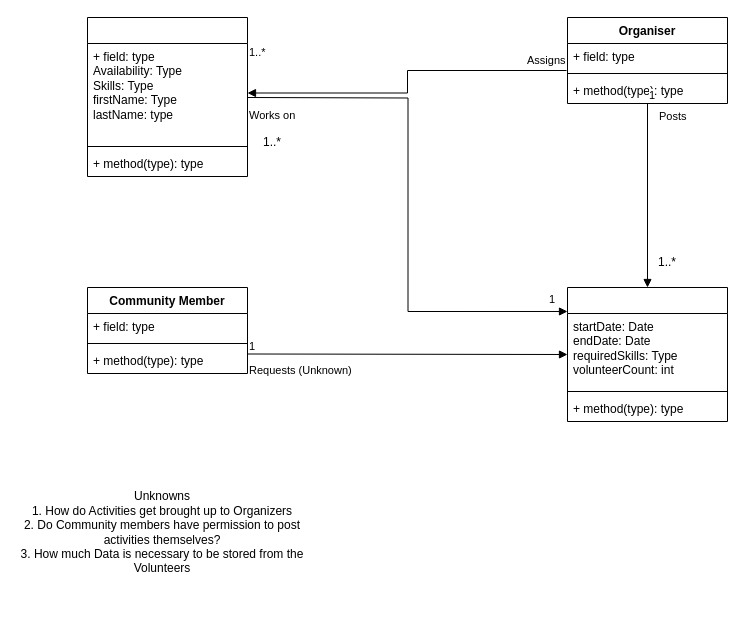
This 745x625 diagram has some shape labels left out. Here are the shapes that lost their labels. From the top down, the box of each, then its label:
(86, 16, 248, 176): Volunteer
(566, 286, 728, 422): Activities
